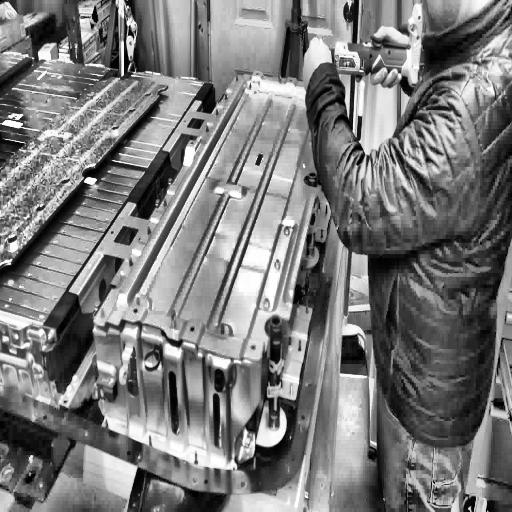battery_module: (89, 72, 337, 368)
